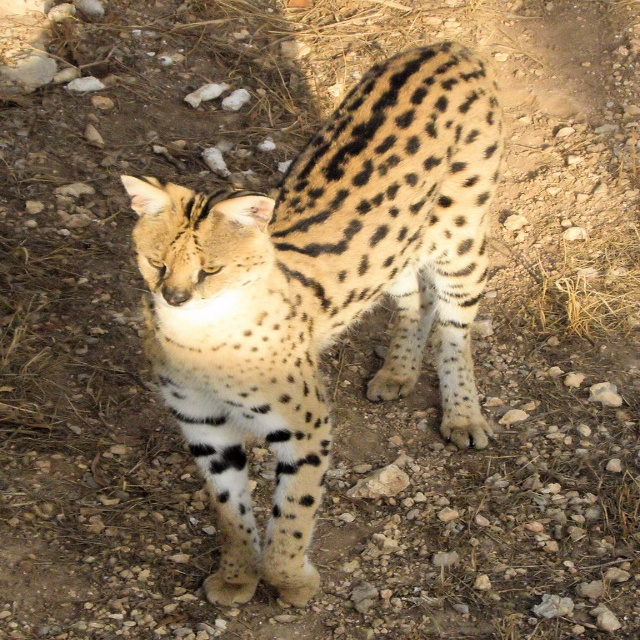Cheetah: (121, 39, 506, 606)
